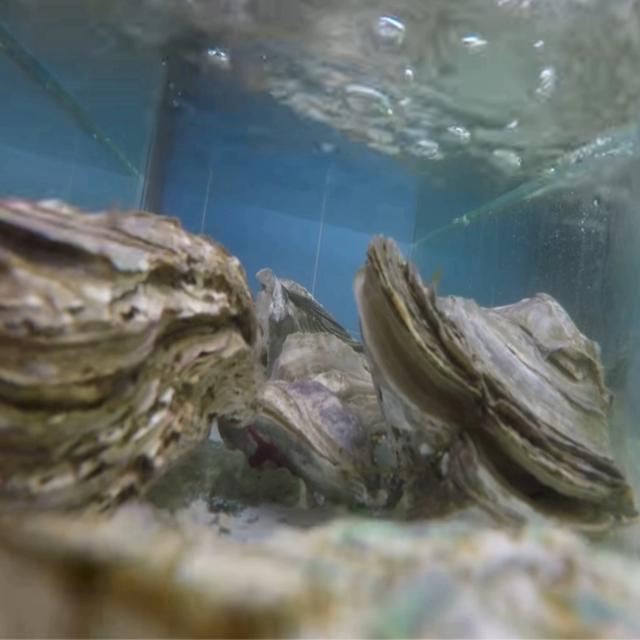Oyster-Closed: (0, 197, 258, 537), (247, 332, 408, 515)
Oyster-Indeterminate: (0, 501, 640, 640)
Oyster-Open: (354, 233, 640, 548)
